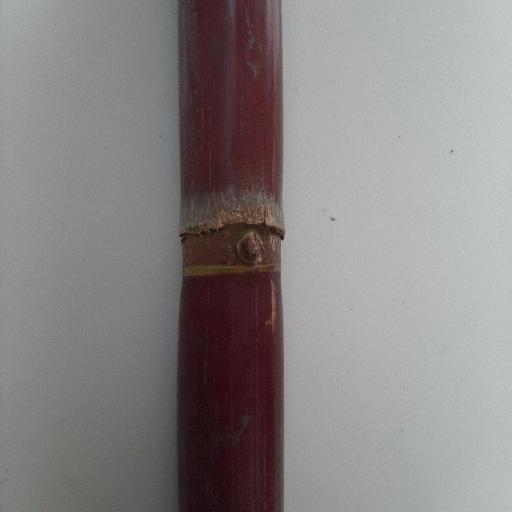Bud: (235, 228, 263, 265)
